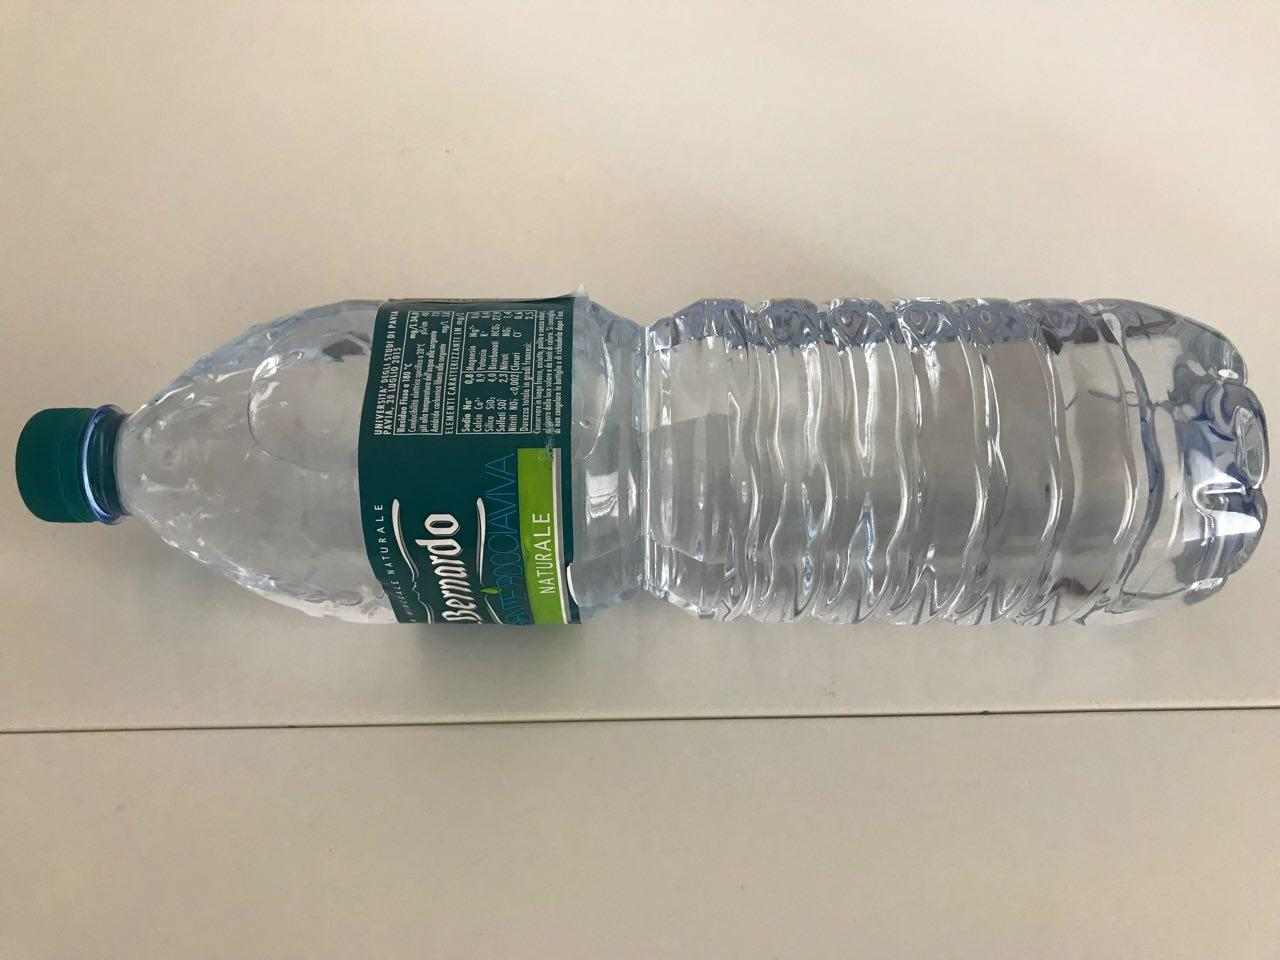san_bernardo: (13, 293, 1270, 630)
